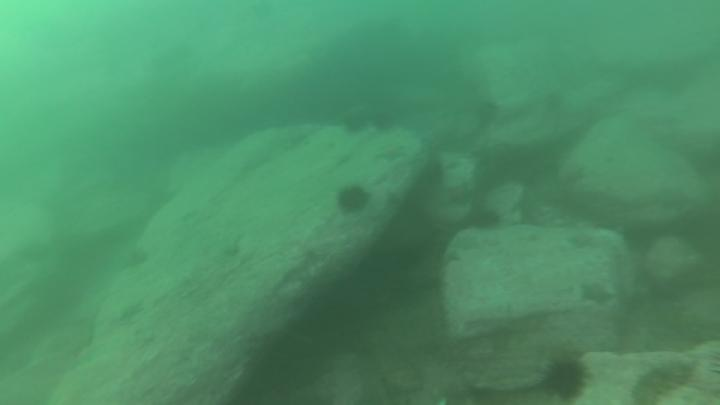echinus: (536, 356, 593, 405), (332, 183, 374, 218), (622, 222, 657, 256), (466, 207, 504, 234), (341, 104, 372, 135), (472, 99, 500, 130), (371, 109, 396, 134)
holothurian: (631, 356, 699, 405)
starfish: (578, 278, 616, 309), (445, 181, 476, 209), (566, 228, 598, 252), (378, 144, 410, 167), (118, 300, 147, 325)
